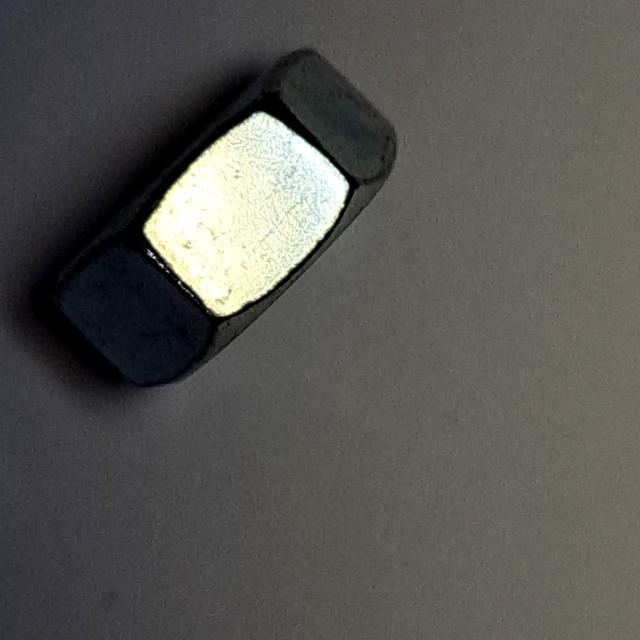Side_Excellent: (25, 25, 419, 407)
